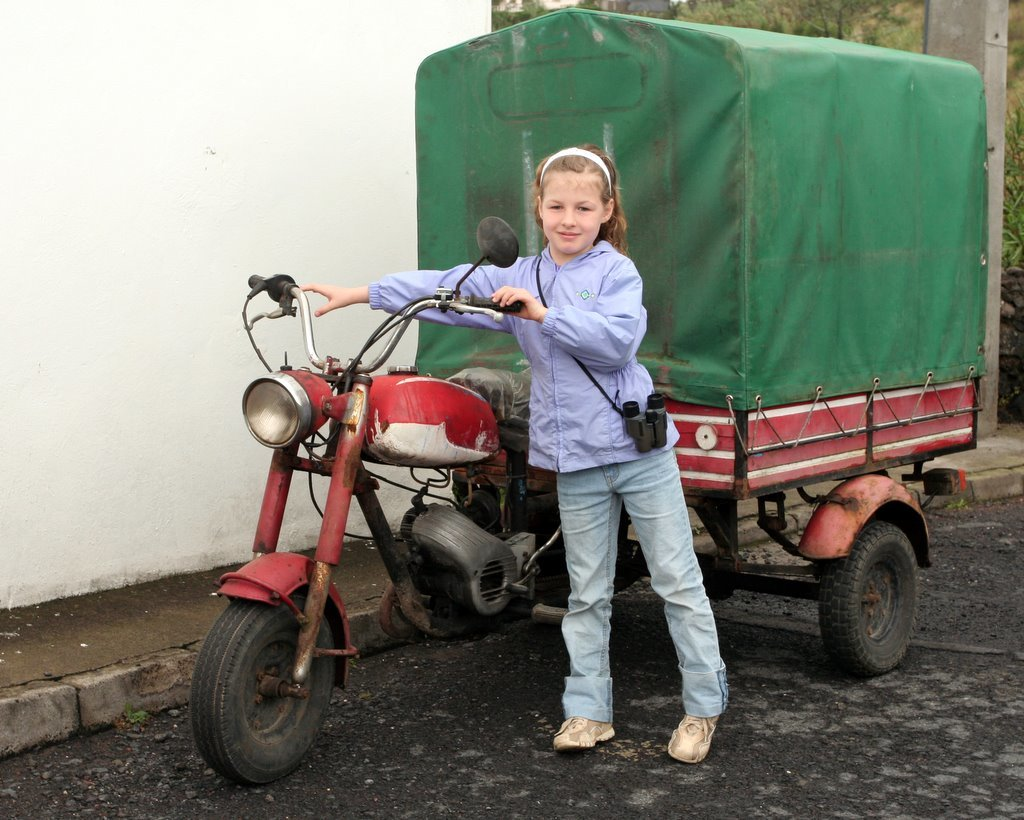Person: (299, 142, 729, 763)
